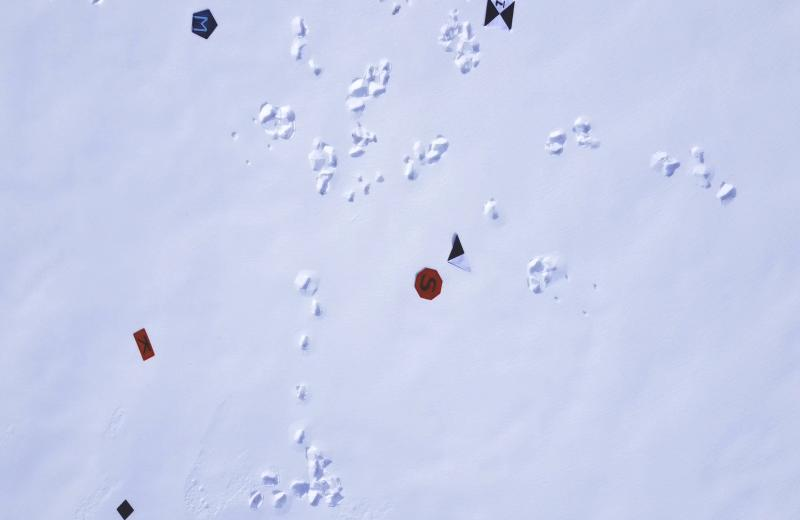Octagon: (415, 266, 444, 304)
Pentagon: (189, 8, 220, 43)
Rectangle: (133, 326, 155, 362)
Square: (116, 498, 134, 520)
